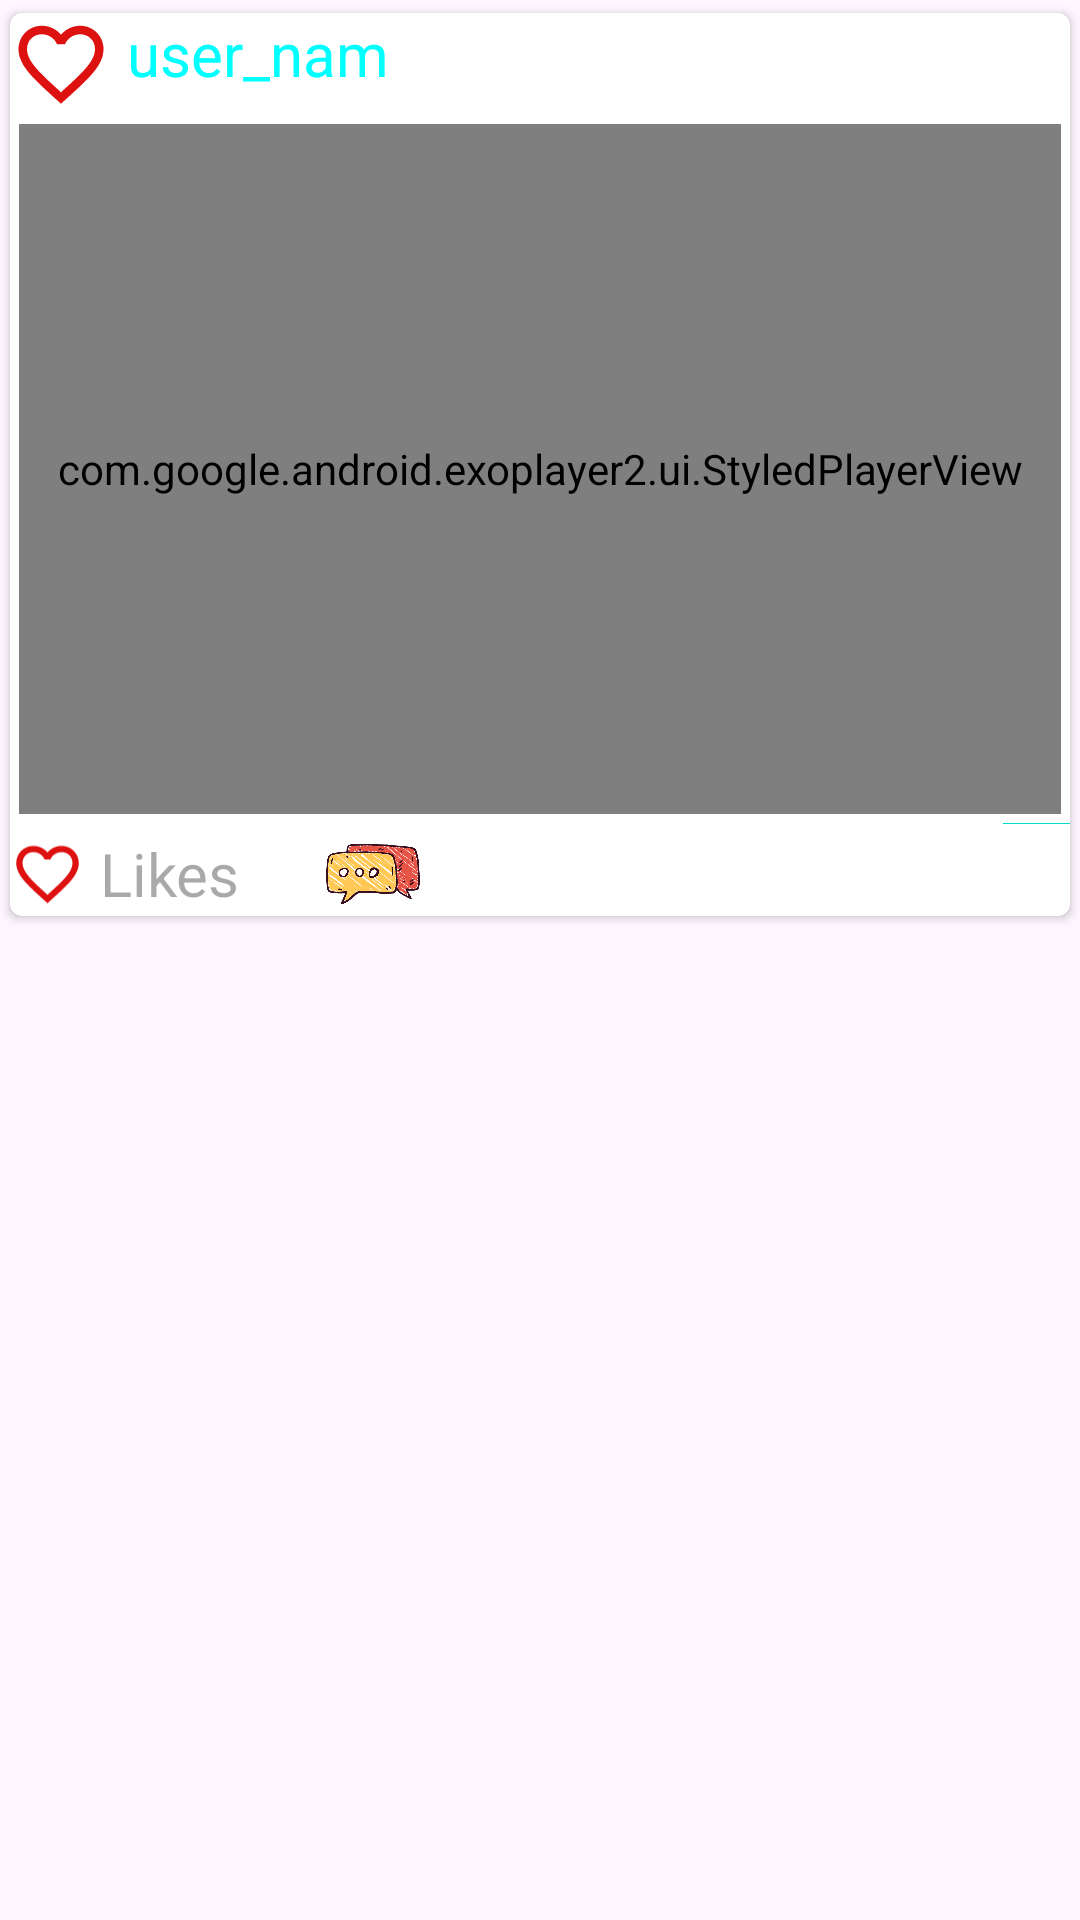

Icons on this 1080px×1920px Android screen, each with the point to tap as (x=x, y=y):
comment: (x=373, y=874)
favorite border: (x=61, y=64), (x=47, y=874)
